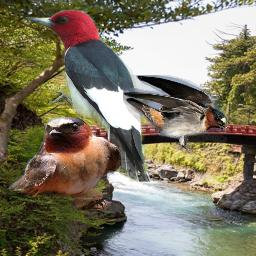Swallow: (9, 117, 121, 210), (123, 75, 227, 153)
Woodpecker: (23, 9, 155, 182)
